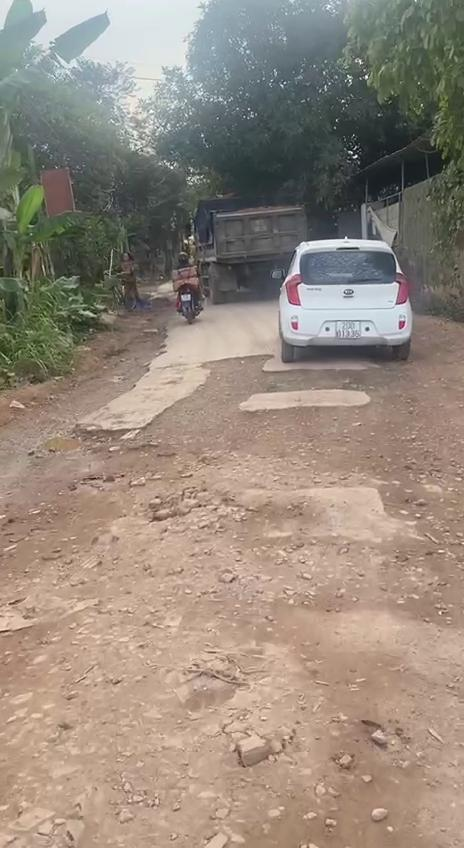pothole: (0, 412, 316, 616), (137, 348, 360, 496), (345, 365, 464, 618)
